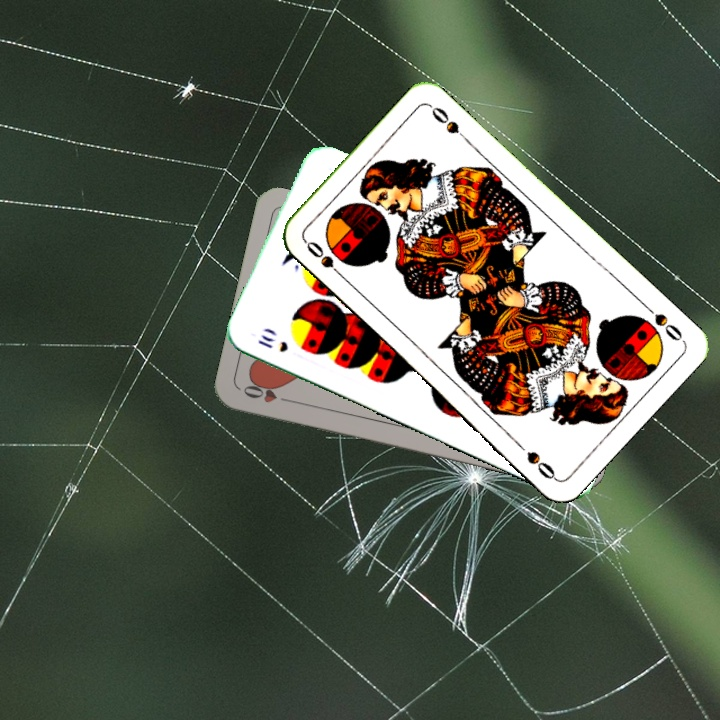HO: (239, 378, 296, 406)
S10: (253, 330, 291, 355)
SO: (301, 236, 348, 282), (639, 299, 686, 344)
